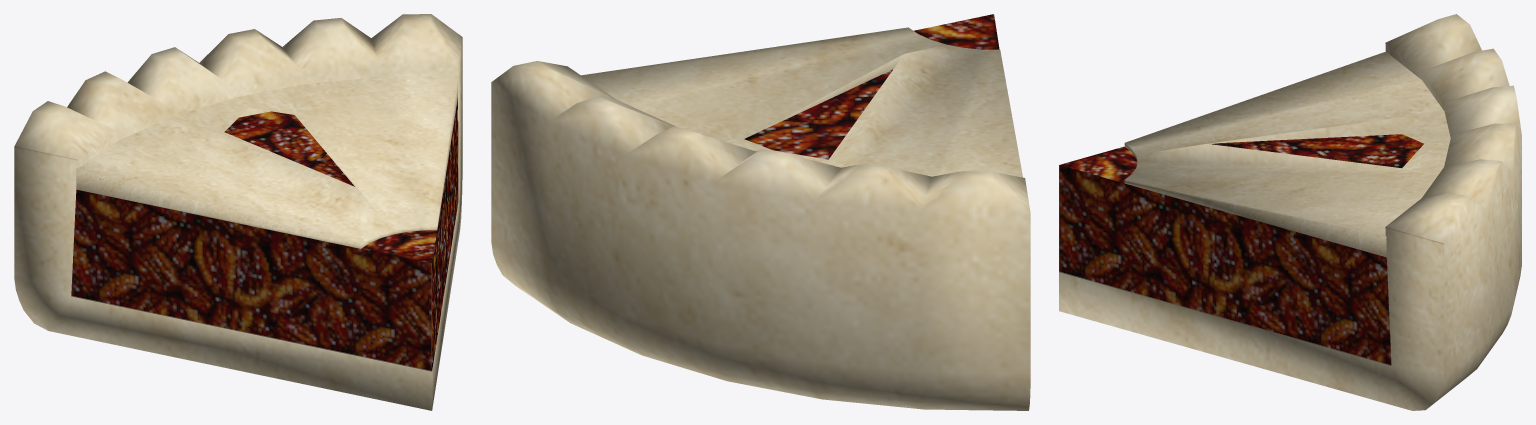
The model's file is VFX_PieSliceDiamond.fbx.
The picture shows the model from 3 angles, left to right: view 1: azimuth 30°, elevation 25°; view 2: azimuth 150°, elevation 25°; view 3: azimuth 270°, elevation 25°; orthographic projection. The views are drawn at different scales.
Parts seen in each view (by area): view 1: Pie Slice Diamonds; view 2: Pie Slice Diamonds; view 3: Pie Slice Diamonds.
Part boxes in pixels (left/top/right/bottom): Pie Slice Diamonds: left=14, top=14, right=462, bottom=410; Pie Slice Diamonds: left=491, top=14, right=1030, bottom=410; Pie Slice Diamonds: left=1059, top=14, right=1521, bottom=410.
Bounding box in the file's own units: 0.12 × 0.0516 × 0.108.
